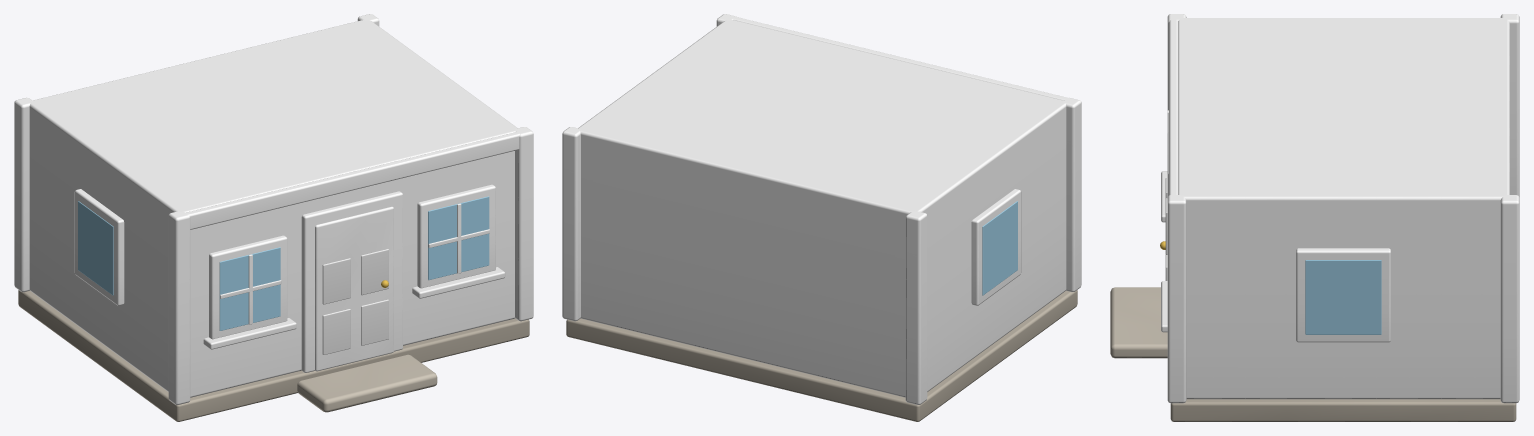
The model's file is house_body_tiled.glb.
3 renders of one model, left to right at view 1: azimuth 30°, elevation 25°; view 2: azimuth 150°, elevation 25°; view 3: azimuth 270°, elevation 25°, orthographic. The views are drawn at different scales.
Visible parts, largest first — view 1: house_body_tiled_house_wall, house_body_tiled_house_trim, house_body_tiled_house_stone, house_body_tiled_house_door, house_body_tiled_house_glass; view 2: house_body_tiled_house_wall, house_body_tiled_house_trim, house_body_tiled_house_stone, house_body_tiled_house_glass; view 3: house_body_tiled_house_wall, house_body_tiled_house_trim, house_body_tiled_house_stone, house_body_tiled_house_glass, house_body_tiled_house_door.
Part boxes in pixels (x1,y1,x2,y2): house_body_tiled_house_wall: [29, 19, 517, 397]; house_body_tiled_house_trim: [14, 14, 533, 404]; house_body_tiled_house_stone: [18, 290, 529, 421]; house_body_tiled_house_door: [315, 206, 393, 371]; house_body_tiled_house_glass: [78, 196, 489, 330]; house_body_tiled_house_wall: [577, 19, 1066, 397]; house_body_tiled_house_trim: [562, 14, 1081, 404]; house_body_tiled_house_stone: [566, 290, 1077, 421]; house_body_tiled_house_glass: [982, 201, 1017, 295]; house_body_tiled_house_wall: [1178, 18, 1509, 399]; house_body_tiled_house_trim: [1161, 14, 1519, 403]; house_body_tiled_house_stone: [1110, 287, 1516, 421]; house_body_tiled_house_glass: [1305, 260, 1381, 334]; house_body_tiled_house_door: [1160, 132, 1168, 280].
Size of the model in its own units: 2.82 by 1.55 by 2.58.
